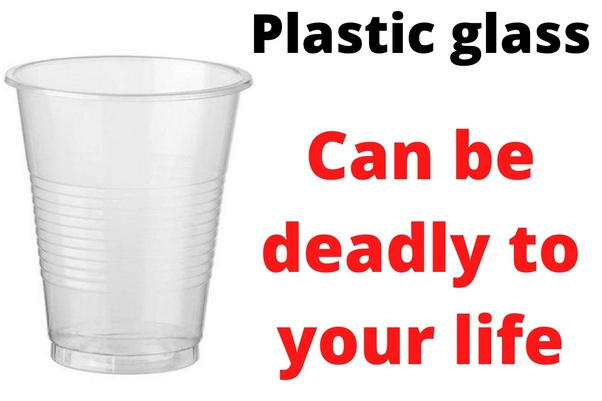plastic_glass: (1, 50, 253, 389)
